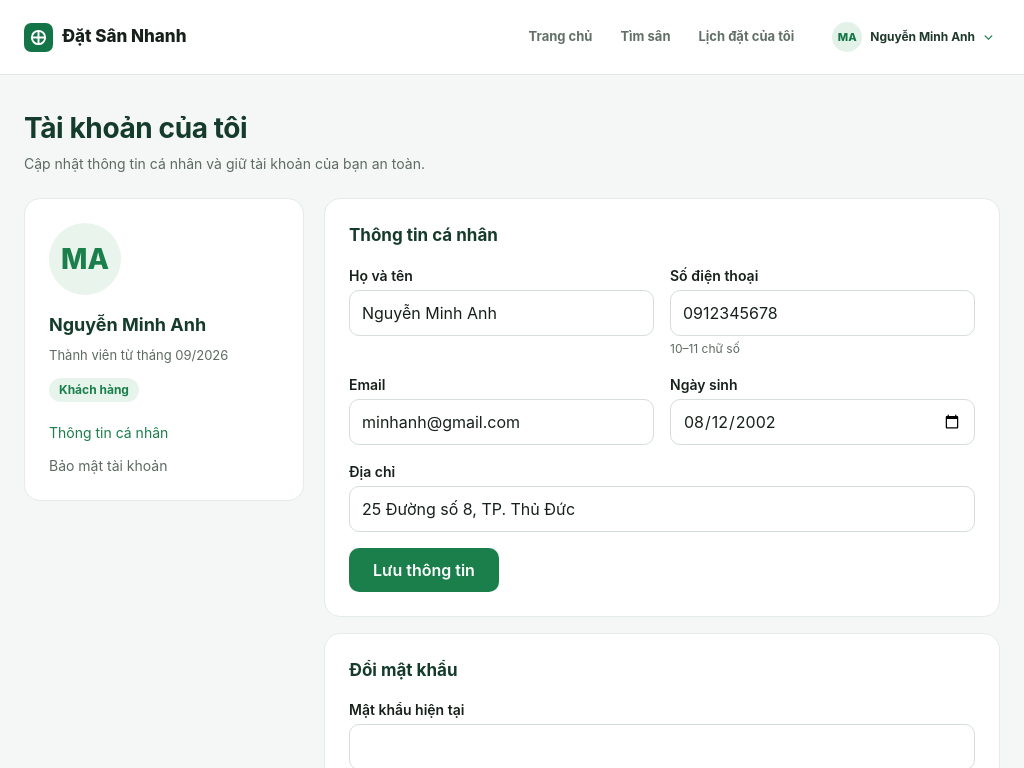
Test case: AccountPage › đổi mật khẩu: xác nhận không khớp thì không gọi server
This screenshot has width=1024, height=768.
Type "matkhaucu1" into the password field labelled "Mật khẩu hiện tại".
click(662, 747); type("matkhaucu1")  # box [350,725,974,767]
(page scrolled)
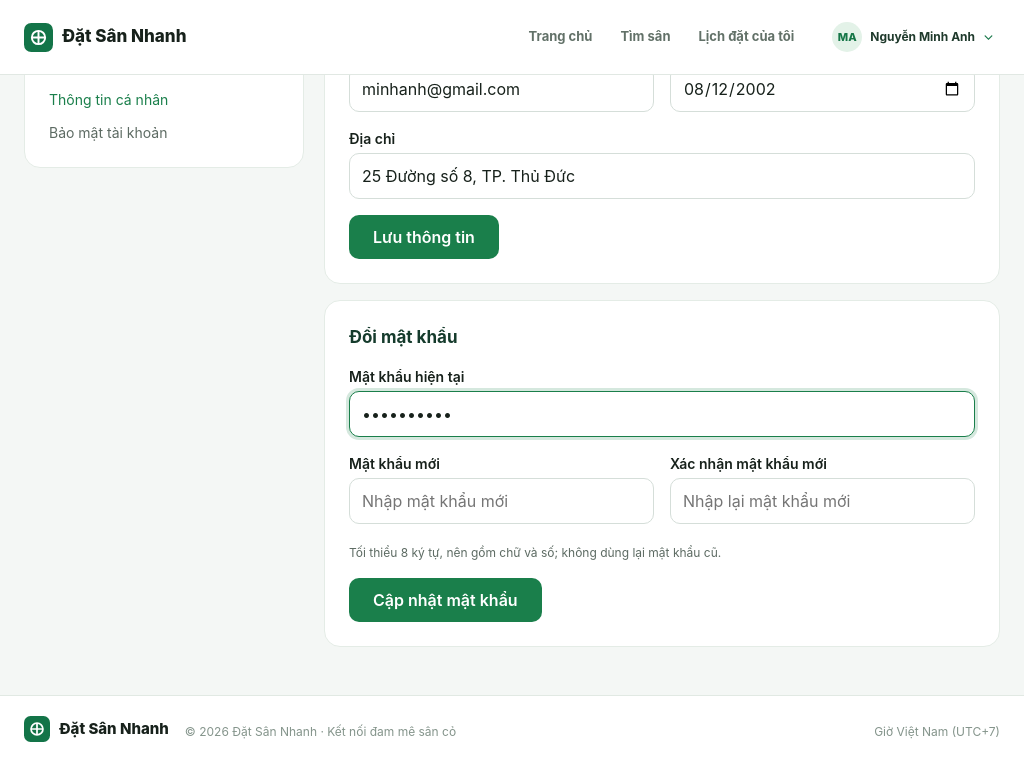
Type "matkhaumoi2" into the password field labelled "Mật khẩu mới".
click(502, 501); type("matkhaumoi2")  # box [350,479,653,523]
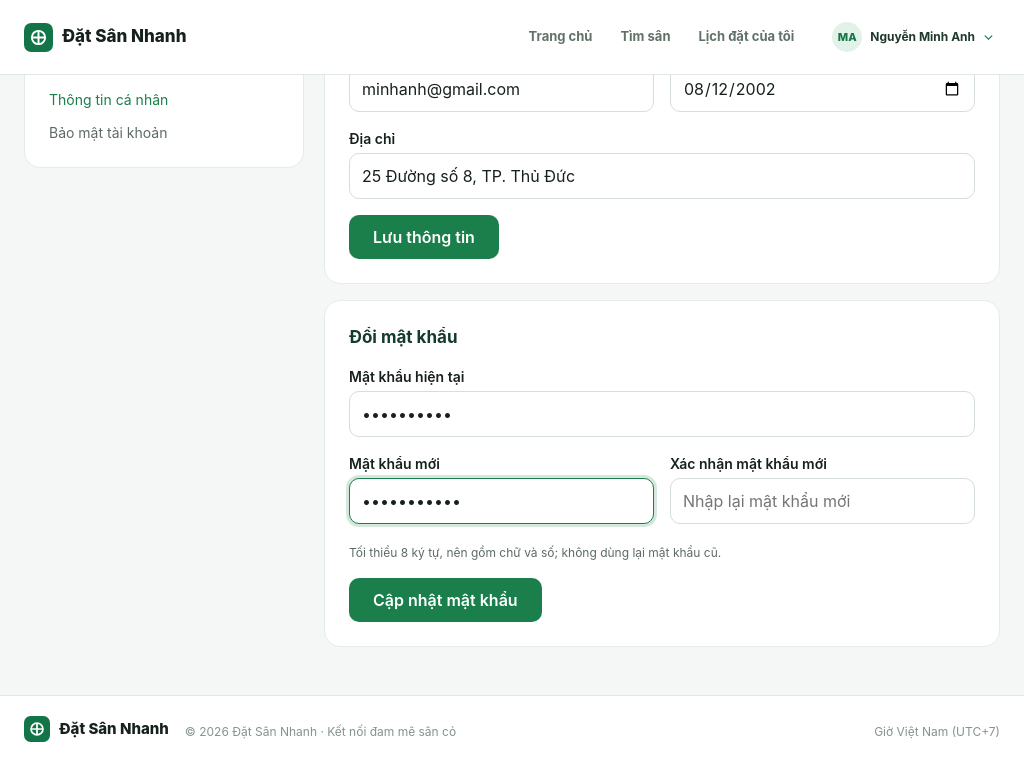
Type "matkhaukhac" into the password field labelled "Xác nhận mật khẩu mới".
click(822, 501); type("matkhaukhac")  # box [671,479,974,523]
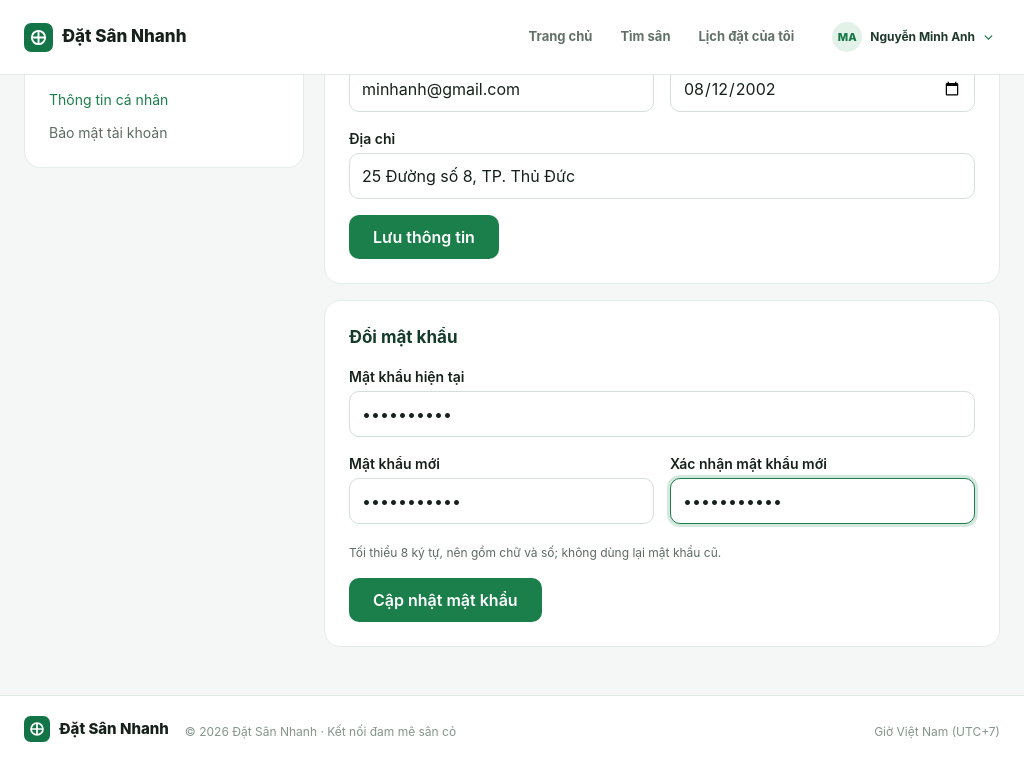
Click the button "Cập nhật mật khẩu".
click(445, 600)  # box [349,578,542,622]
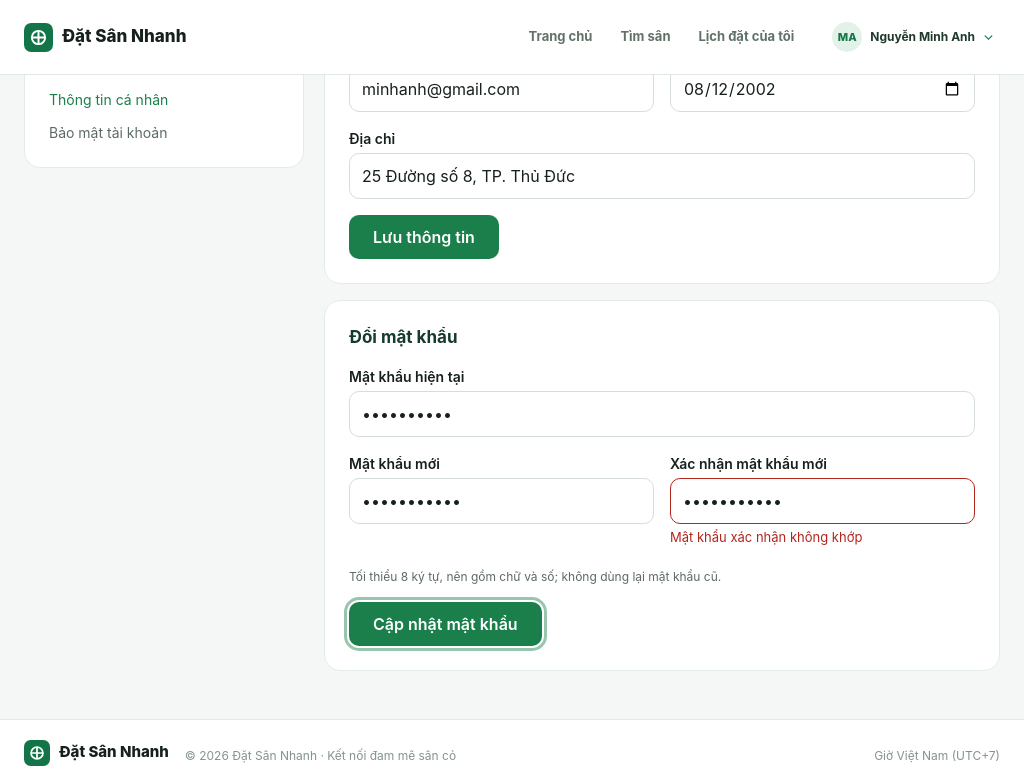
Now the text "Mật khẩu xác nhận không khớp" is shown, box [670,529,862,545]
